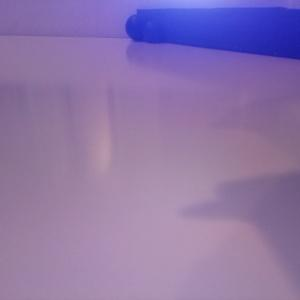dead_ball: (125, 13, 149, 41), (142, 19, 164, 42)
